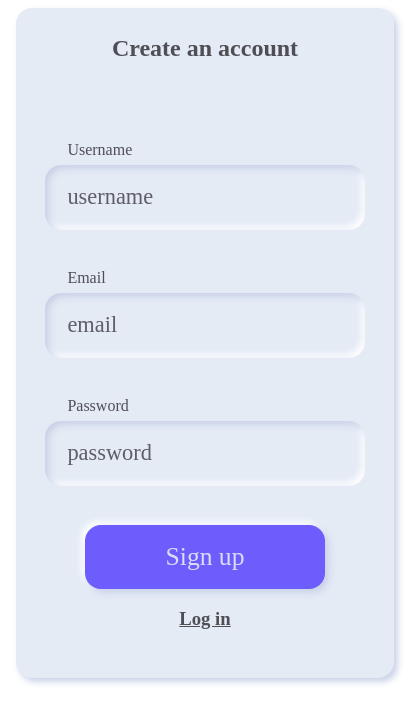
Test: Registration page › should validate input
Click the button "Sign up" at (205, 557), box top-left (85, 525), bottom-right (325, 589)
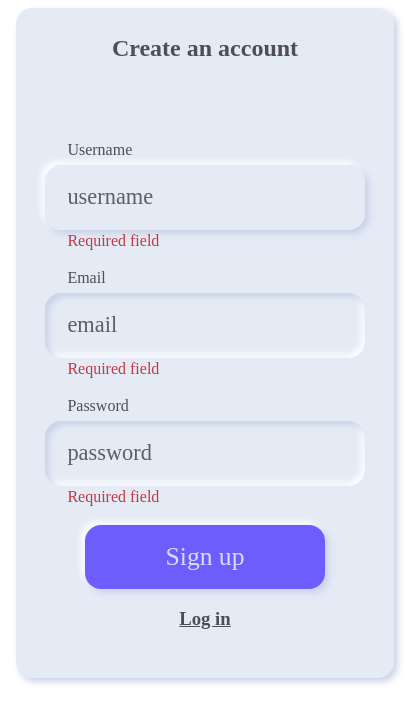
Expected: the text "Required field" is shown 3 times, top-left (67, 232), bottom-right (159, 249); top-left (67, 360), bottom-right (159, 377); top-left (67, 488), bottom-right (159, 505)
Type "test" into the field labelled "Username" at (205, 197), box top-left (45, 165), bottom-right (365, 230)
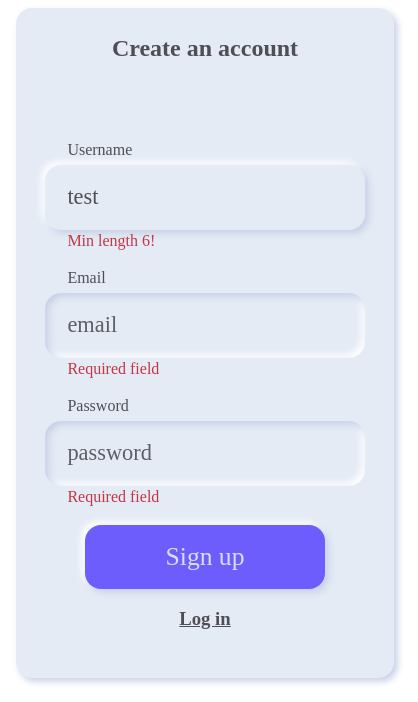
Expected: the text "Required field" is shown 2 times, top-left (67, 360), bottom-right (159, 377); top-left (67, 488), bottom-right (159, 505)
Expected: the text "Min length 6!" is shown, top-left (67, 232), bottom-right (155, 249)
Type "test" into the field labelled "Password" at (205, 453), box top-left (45, 421), bottom-right (365, 486)
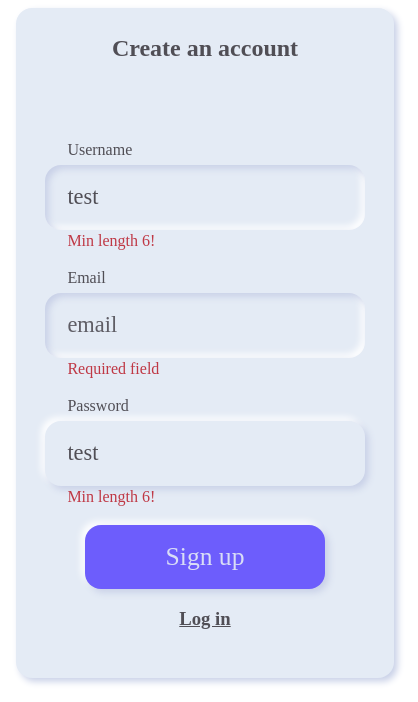
Expected: the text "Min length 6!" is shown 2 times, top-left (67, 232), bottom-right (155, 249); top-left (67, 488), bottom-right (155, 505)
Type "test" into the field labelled "Email" at (205, 325), box top-left (45, 293), bottom-right (365, 358)
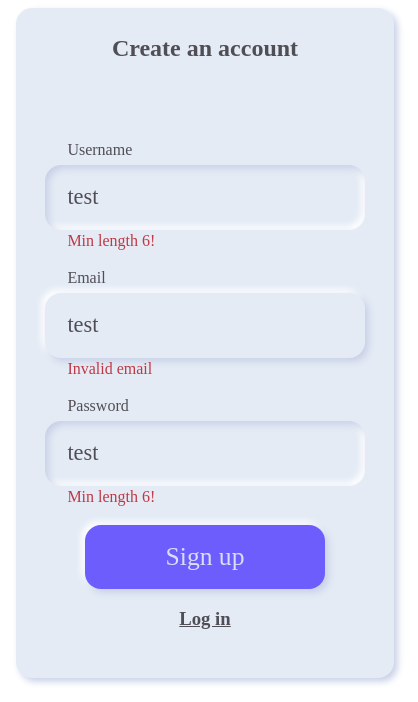
Expected: the text "Invalid email" is shown, top-left (67, 360), bottom-right (152, 377)
Type "testtest" into the field labelled "Username" at (205, 197), box top-left (45, 165), bottom-right (365, 230)
Type "testtesttest" into the field labelled "Password" at (205, 453), box top-left (45, 421), bottom-right (365, 486)
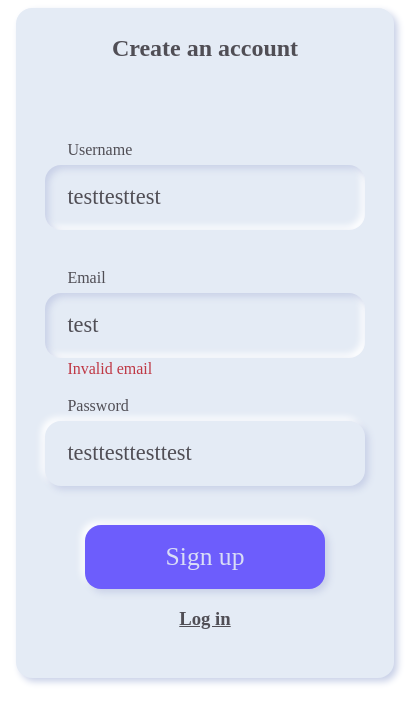
Type "test@test.com" into the field labelled "Email" at (205, 325), box top-left (45, 293), bottom-right (365, 358)
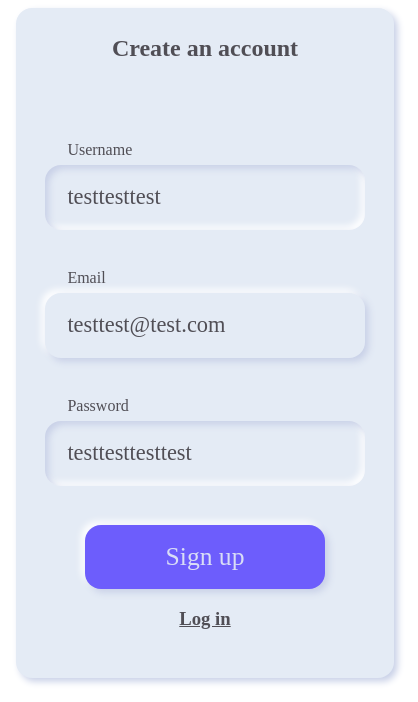
Expected: the text "Min length 6!" is not shown
Expected: the text "Invalid email" is gone
